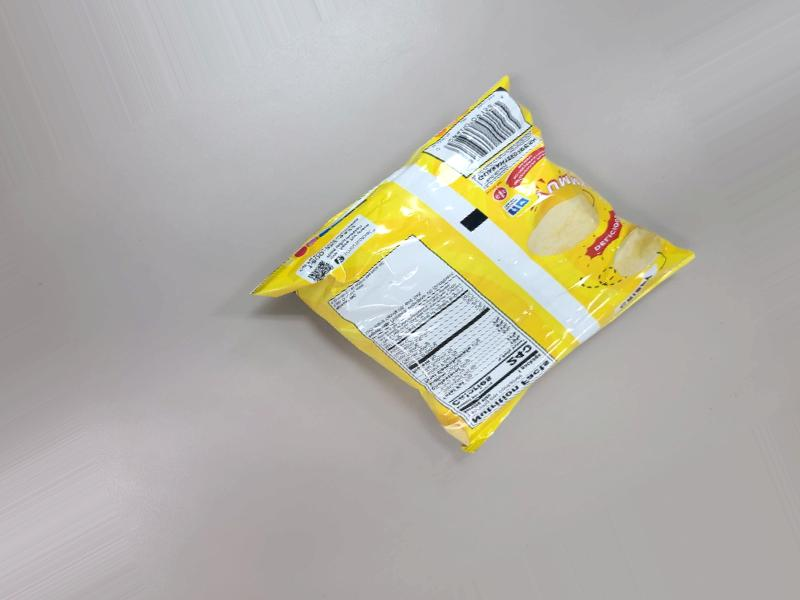lays: (348, 72, 772, 441)
